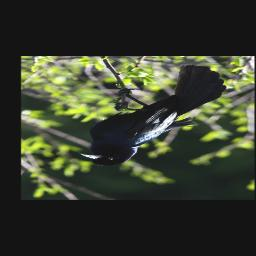Crow: (79, 66, 226, 167)
